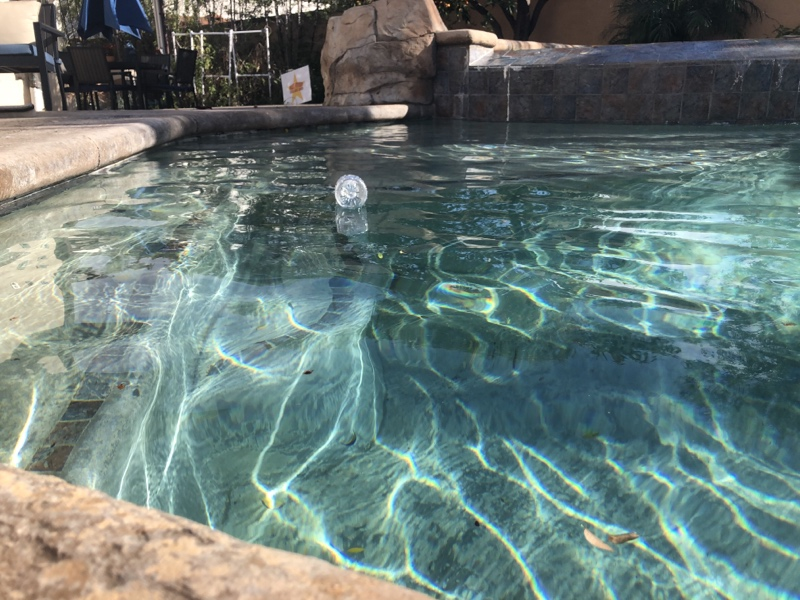Plastic Bottle: (333, 170, 369, 216)
